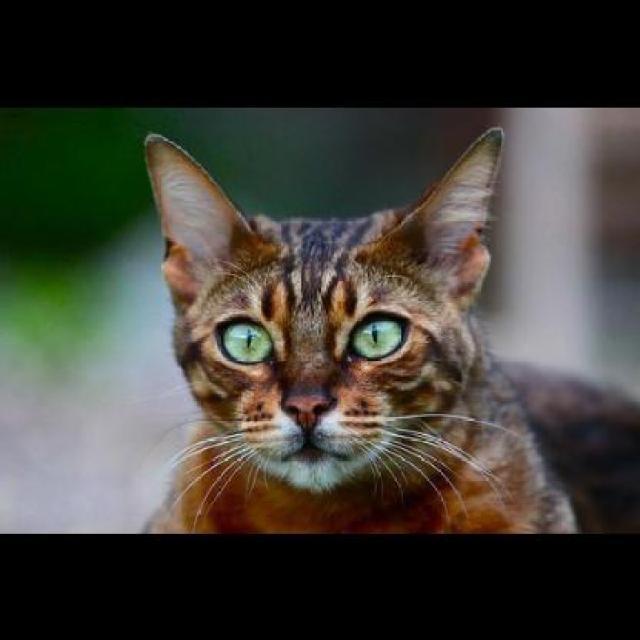unauthorized: (138, 124, 638, 534)
